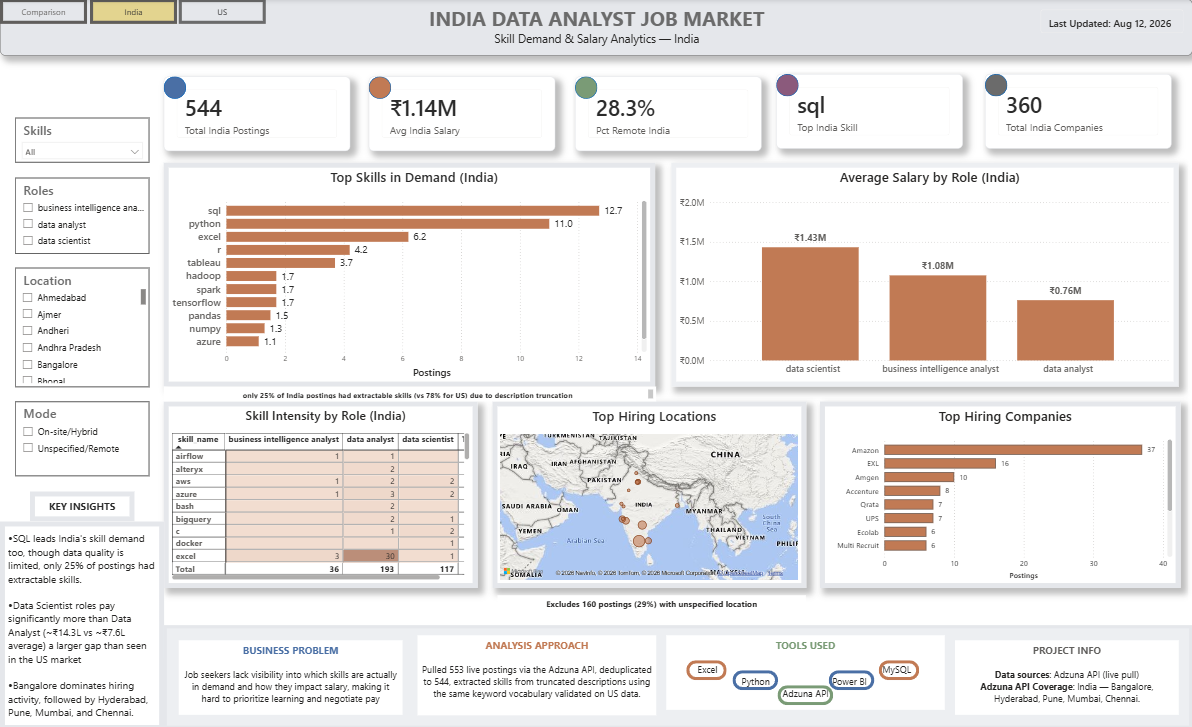

The page's visual inventory and layout, read from the dashboard file:
{"tool":"powerbi","page":{"name":"India Overview","canvas":[1920,1200],"ordinal":1},"visuals":[{"type":"textbox","box":[0,0,1920,91],"z":0},{"type":"cardVisual","fields":{"Data":["_Measures.Top India Skill"]},"box":[1248,120,300,120],"z":0,"group":"g4"},{"type":"cardVisual","fields":{"Data":["_Measures.Total India Companies"]},"box":[1584,120,300,120],"z":0,"group":"g5"},{"type":"cardVisual","fields":{"Data":["_Measures.Total India Postings"]},"box":[264,124.8,300,120],"z":0,"group":"g1"},{"type":"cardVisual","fields":{"Data":["_Measures.Avg India Salary"]},"box":[594,124.8,300,120],"z":0,"group":"g2"},{"type":"cardVisual","fields":{"Data":["_Measures.Pct Remote India"]},"box":[924,124.8,300,120],"z":0,"group":"g3"},{"type":"shape","box":[1248,120,36,36],"z":1000,"group":"g4"},{"type":"shape","box":[1584,120,36,36],"z":1000,"group":"g5"},{"type":"shape","box":[264,124.8,36,36],"z":1000,"group":"g1"},{"type":"shape","box":[594,124.8,36,36],"z":1000,"group":"g2"},{"type":"shape","box":[924,124.8,36,36],"z":1000,"group":"g3"},{"type":"slicer","fields":{"Values":["SkillDim.skill_name"]},"box":[24,192,216,72],"z":1000},{"type":"slicer","fields":{"Values":["india_skills_by_role.search_term"]},"box":[24,288,216,122],"z":2000},{"type":"slicer","fields":{"Values":["india_jobs_cleaned.location_city"]},"box":[24,432,216,192],"z":3000},{"type":"slicer","fields":{"Values":["india_jobs_cleaned.is_remote"]},"box":[24,648,216,120],"z":4000},{"type":"group","id":"g1","title":"Group 1","box":[264,124.8,312,120],"z":5000},{"type":"group","id":"g2","title":"Group 1","box":[594,124.8,312,120],"z":6000},{"type":"group","id":"g3","title":"Group 1","box":[924,124.8,312,120],"z":7000},{"type":"group","id":"g4","title":"Group 1","box":[1248,120,312,144],"z":8000},{"type":"group","id":"g5","title":"Group 1","box":[1584,120,288,144],"z":9000},{"type":"clusteredBarChart","title":"Top Skills in Demand (India)","fields":{"Y":["Sum(us_vs_india_skill_comparison.india_pct)"],"Category":["us_vs_india_skill_comparison.skill_name"]},"box":[264,264,790,360],"z":10000},{"type":"pivotTable","title":"Skill Intensity by Role (India)","fields":{"Rows":["india_skills_by_role.skill_name"],"Columns":["india_skills_by_role.search_term"],"Values":["CountNonNull(india_skills_by_role.skill_name)"]},"box":[264,648,505,300],"z":11000},{"type":"map","title":"Top Hiring Locations","fields":{"Category":["india_top_locations.location_city"],"Size":["Sum(india_top_locations.posting_count)"]},"box":[792,648,505,300],"z":12000},{"type":"clusteredBarChart","title":"Top Hiring Companies","fields":{"Category":["india_jobs_cleaned.company_name"],"Y":["CountNonNull(india_jobs_cleaned.company_name)"]},"box":[1320,648,580,300],"z":13000},{"type":"textbox","box":[48,792,168,48],"z":14000},{"type":"textbox","box":[0,840,264,336],"z":15000},{"type":"shape","box":[264,1008,1656,168],"z":16000},{"type":"textbox","box":[288,1032,360,120],"z":17000},{"type":"textbox","box":[672,1024,384,129],"z":18000},{"type":"textbox","box":[1536,1032,360,120],"z":19000},{"type":"group","id":"g6","title":"Group 2","box":[1072,1024,448,128],"z":20000},{"type":"actionButton","box":[0,0,140,40],"z":21000},{"type":"textbox","box":[1072,1024,448.1,120],"z":21000,"group":"g6"},{"type":"shape","box":[1104.6,1064,65.2,32],"z":21500,"group":"g6"},{"type":"actionButton","box":[144,0,140,40],"z":22000},{"type":"actionButton","box":[288,0,140,40],"z":23000},{"type":"shape","box":[1414.2,1064,65.2,32],"z":23000,"group":"g6"},{"type":"cardVisual","fields":{"Data":["Parameter.Last Updated"]},"box":[1656,0,264,72],"z":24000},{"type":"shape","box":[1177.9,1080,73.3,32],"z":24000,"group":"g6"},{"type":"textbox","box":[264,624,792,24],"z":25000},{"type":"shape","box":[1332.7,1080,73.3,32],"z":25000,"group":"g6"},{"type":"clusteredColumnChart","title":"Average Salary by Role (India)","fields":{"Category":["india_salary_by_role.search_term"],"Y":["Sum(india_salary_by_role.avg_salary_inr)"]},"box":[1080,264,816,360],"z":26000},{"type":"shape","box":[1251.3,1104,89.6,32],"z":26000,"group":"g6"},{"type":"textbox","box":[800,960,496,32],"z":27000}]}

Visuals, with their boxes on the page's 1920x1200 design canvas (x1, y1, x2, y2). These are canvas units, not pixel positions in the 1192x727 screenshot, which may show the page scaled, cropped or inside an application window:
textbox: {"x1": 0, "y1": 0, "x2": 1920, "y2": 91}
cardVisual - _Measures.Top India Skill: {"x1": 1248, "y1": 120, "x2": 1548, "y2": 240}
cardVisual - _Measures.Total India Companies: {"x1": 1584, "y1": 120, "x2": 1884, "y2": 240}
cardVisual - _Measures.Total India Postings: {"x1": 264, "y1": 125, "x2": 564, "y2": 245}
cardVisual - _Measures.Avg India Salary: {"x1": 594, "y1": 125, "x2": 894, "y2": 245}
cardVisual - _Measures.Pct Remote India: {"x1": 924, "y1": 125, "x2": 1224, "y2": 245}
shape: {"x1": 1248, "y1": 120, "x2": 1284, "y2": 156}
shape: {"x1": 1584, "y1": 120, "x2": 1620, "y2": 156}
shape: {"x1": 264, "y1": 125, "x2": 300, "y2": 161}
shape: {"x1": 594, "y1": 125, "x2": 630, "y2": 161}
shape: {"x1": 924, "y1": 125, "x2": 960, "y2": 161}
slicer - SkillDim.skill_name: {"x1": 24, "y1": 192, "x2": 240, "y2": 264}
slicer - india_skills_by_role.search_term: {"x1": 24, "y1": 288, "x2": 240, "y2": 410}
slicer - india_jobs_cleaned.location_city: {"x1": 24, "y1": 432, "x2": 240, "y2": 624}
slicer - india_jobs_cleaned.is_remote: {"x1": 24, "y1": 648, "x2": 240, "y2": 768}
"Group 1" group: {"x1": 264, "y1": 125, "x2": 576, "y2": 245}
"Group 1" group: {"x1": 594, "y1": 125, "x2": 906, "y2": 245}
"Group 1" group: {"x1": 924, "y1": 125, "x2": 1236, "y2": 245}
"Group 1" group: {"x1": 1248, "y1": 120, "x2": 1560, "y2": 264}
"Group 1" group: {"x1": 1584, "y1": 120, "x2": 1872, "y2": 264}
"Top Skills in Demand (India)" clusteredBarChart: {"x1": 264, "y1": 264, "x2": 1054, "y2": 624}
"Skill Intensity by Role (India)" pivotTable: {"x1": 264, "y1": 648, "x2": 769, "y2": 948}
"Top Hiring Locations" map: {"x1": 792, "y1": 648, "x2": 1297, "y2": 948}
"Top Hiring Companies" clusteredBarChart: {"x1": 1320, "y1": 648, "x2": 1900, "y2": 948}
textbox: {"x1": 48, "y1": 792, "x2": 216, "y2": 840}
textbox: {"x1": 0, "y1": 840, "x2": 264, "y2": 1176}
shape: {"x1": 264, "y1": 1008, "x2": 1920, "y2": 1176}
textbox: {"x1": 288, "y1": 1032, "x2": 648, "y2": 1152}
textbox: {"x1": 672, "y1": 1024, "x2": 1056, "y2": 1153}
textbox: {"x1": 1536, "y1": 1032, "x2": 1896, "y2": 1152}
"Group 2" group: {"x1": 1072, "y1": 1024, "x2": 1520, "y2": 1152}
actionButton: {"x1": 0, "y1": 0, "x2": 140, "y2": 40}
textbox: {"x1": 1072, "y1": 1024, "x2": 1520, "y2": 1144}
shape: {"x1": 1105, "y1": 1064, "x2": 1170, "y2": 1096}
actionButton: {"x1": 144, "y1": 0, "x2": 284, "y2": 40}
actionButton: {"x1": 288, "y1": 0, "x2": 428, "y2": 40}
shape: {"x1": 1414, "y1": 1064, "x2": 1479, "y2": 1096}
cardVisual - Parameter.Last Updated: {"x1": 1656, "y1": 0, "x2": 1920, "y2": 72}
shape: {"x1": 1178, "y1": 1080, "x2": 1251, "y2": 1112}
textbox: {"x1": 264, "y1": 624, "x2": 1056, "y2": 648}
shape: {"x1": 1333, "y1": 1080, "x2": 1406, "y2": 1112}
"Average Salary by Role (India)" clusteredColumnChart: {"x1": 1080, "y1": 264, "x2": 1896, "y2": 624}
shape: {"x1": 1251, "y1": 1104, "x2": 1341, "y2": 1136}
textbox: {"x1": 800, "y1": 960, "x2": 1296, "y2": 992}
